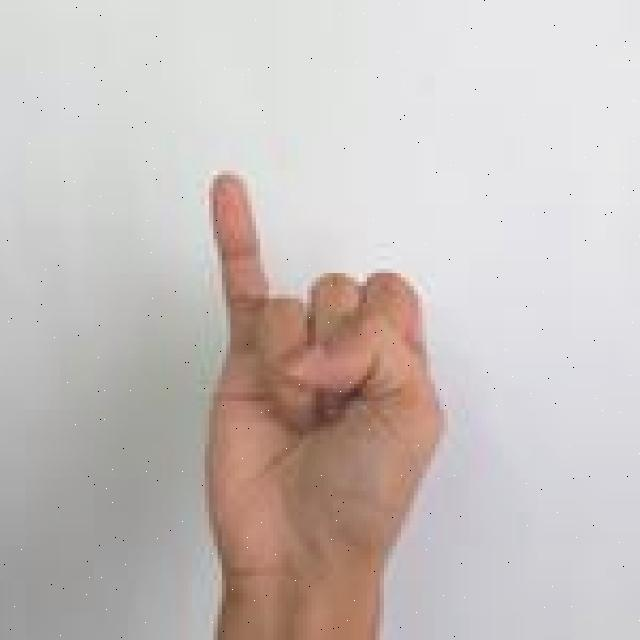I: (192, 165, 453, 640)
